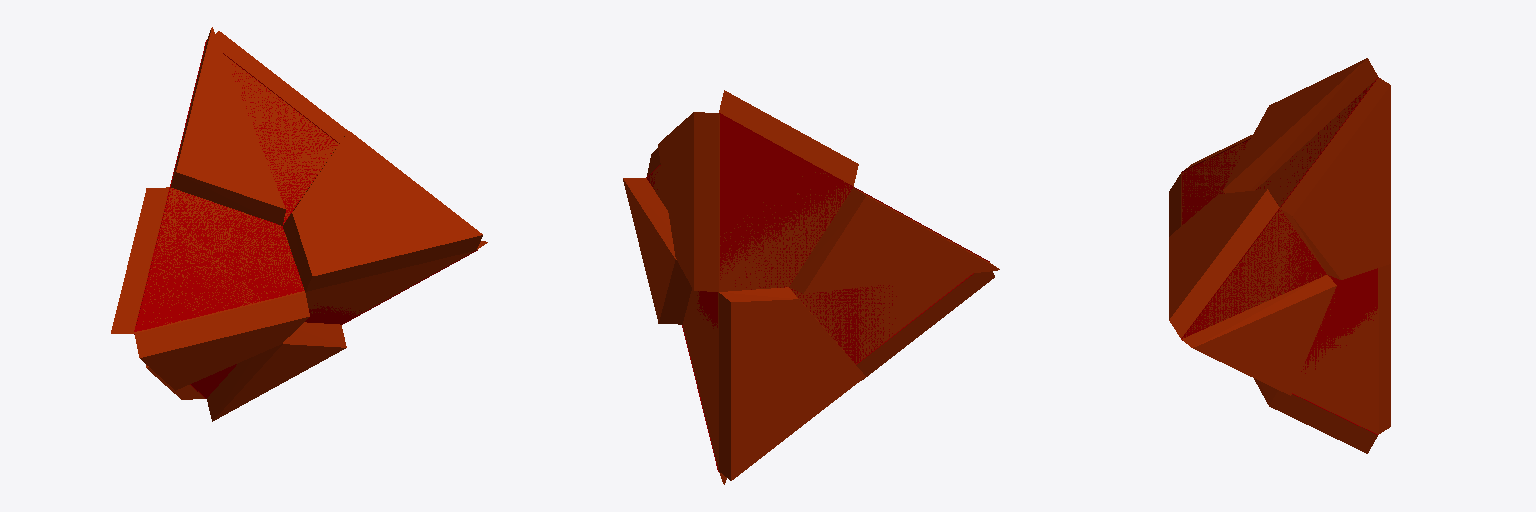
Rendered from tox.obj.
The picture shows the model from 3 angles: view 1: azimuth 30°, elevation 25°; view 2: azimuth 150°, elevation 25°; view 3: azimuth 270°, elevation 25°; orthographic projection.
Visible parts, largest first — view 1: Cube; view 2: Cube; view 3: Cube.
Part boxes in pixels (x1,y1,x2,y2): Cube: (111,27,487,421); Cube: (623,90,999,484); Cube: (1169,58,1390,453).
Size of the model in its own units: 4.43 by 4.43 by 2.25.